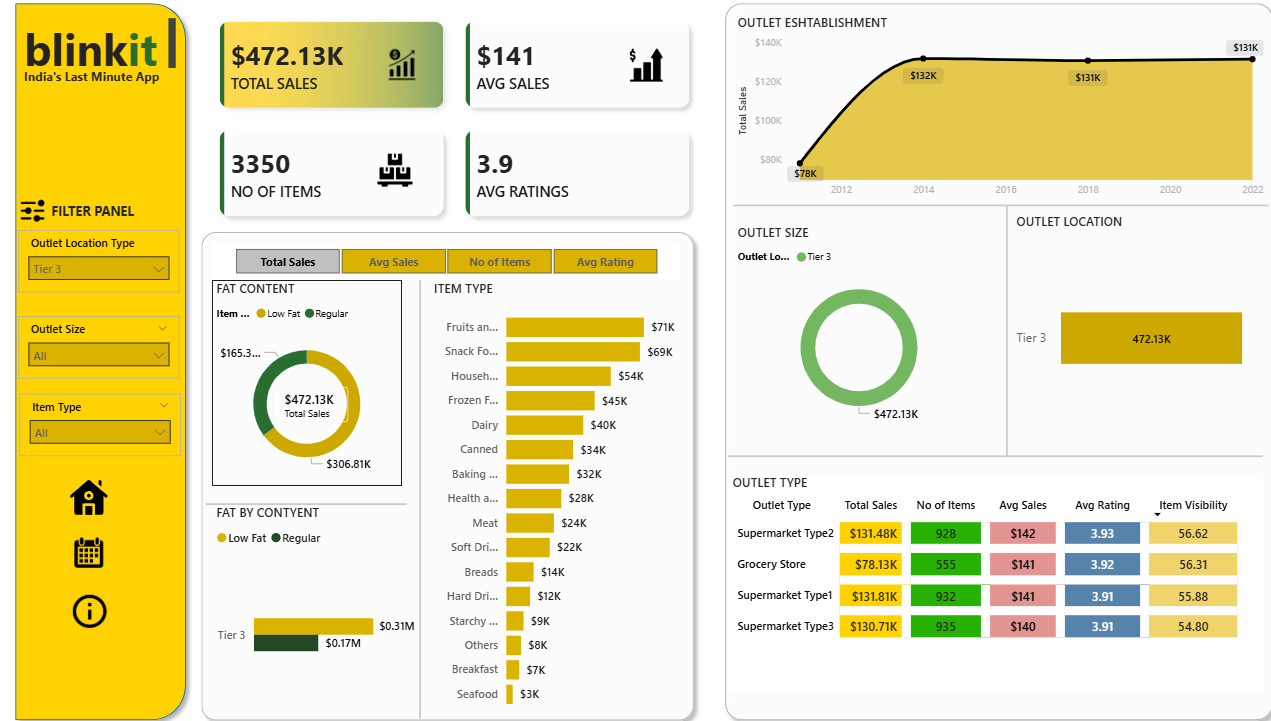

Layout of this report page (visuals, bound fields, positions):
{"tool":"powerbi","page":{"name":"Page 1","canvas":[1400,800],"ordinal":0},"visuals":[{"type":"shape","box":[10.5,0,204.1,800],"z":0},{"type":"textbox","box":[24,21,175.6,69],"z":1000},{"type":"textbox","box":[24,75,166.6,31.5],"z":2000},{"type":"cardVisual","fields":{"Data":["BlinkIT Grocery Data.Total Sales","BlinkIT Grocery Data.Avg Sales","BlinkIT Grocery Data.No of Items","BlinkIT Grocery Data.Avg Rating"]},"box":[214.6,0,570.3,270.2],"z":3000},{"type":"shape","box":[214,249.5,554.9,550.8],"z":4000},{"type":"donutChart","title":"FAT CONTENT","fields":{"Y":["BlinkIT Grocery Data.Total Sales"],"Category":["BlinkIT Grocery Data.Item Fat Content"]},"box":[234.5,310.8,207.2,225],"z":5000},{"type":"slicer","fields":{"Values":["Matrics.Matrics"]},"box":[234.5,269.9,509.9,40.9],"z":6000},{"type":"cardVisual","fields":{"Data":["BlinkIT Grocery Data.Total Sales"]},"box":[283.6,410.4,117.2,73.6],"z":7000},{"type":"clusteredBarChart","title":"FAT BY CONTYENT","fields":{"Y":["BlinkIT Grocery Data.Total Sales"],"Category":["BlinkIT Grocery Data.Outlet Location Type"],"Series":["BlinkIT Grocery Data.Item Fat Content"]},"box":[234.5,554.9,226.3,234.5],"z":8000},{"type":"shape","box":[228.1,535.8,219.1,39],"z":9000},{"type":"shape","box":[451.3,310.8,20.5,478.5],"z":10000},{"type":"barChart","title":"ITEM TYPE","fields":{"Y":["BlinkIT Grocery Data.Total Sales"],"Category":["BlinkIT Grocery Data.Item Type"]},"box":[471.7,310.8,283.6,478.5],"z":11000},{"type":"shape","box":[785,0,615.4,800],"z":12000},{"type":"lineChart","title":"OUTLET ESHTABLISHMENT","fields":{"Y":["BlinkIT Grocery Data.Total Sales"],"Category":["BlinkIT Grocery Data.Outlet Establishment Year"]},"box":[803,20.5,583.5,208.6],"z":13000},{"type":"shape","box":[803,210.1,583.8,39],"z":14000},{"type":"donutChart","title":"OUTLET SIZE","fields":{"Y":["BlinkIT Grocery Data.Total Sales"],"Category":["BlinkIT Grocery Data.Outlet Location Type"]},"box":[803,249.1,274.7,225.1],"z":15000},{"type":"shape","box":[1096.1,229,10.9,274],"z":16000},{"type":"funnel","title":"OUTLET LOCATION","fields":{"Y":["Sum(BlinkIT Grocery Data.Sales)"],"Category":["BlinkIT Grocery Data.Outlet Location Type"]},"box":[1107.6,237.1,261.2,255.1],"z":17000},{"type":"shape","box":[797.6,484,583.5,38.2],"z":18000},{"type":"pivotTable","title":"OUTLET TYPE","fields":{"Rows":["BlinkIT Grocery Data.Outlet Type"],"Values":["BlinkIT Grocery Data.Total Sales","BlinkIT Grocery Data.No of Items","BlinkIT Grocery Data.Avg Sales","BlinkIT Grocery Data.Avg Rating","Sum(BlinkIT Grocery Data.Item Visibility)"]},"box":[797.6,522.2,583.5,235.9],"z":19000},{"type":"slicer","fields":{"Values":["BlinkIT Grocery Data.Outlet Location Type"]},"box":[23.2,256.3,175.9,68.2],"z":20000},{"type":"slicer","fields":{"Values":["BlinkIT Grocery Data.Outlet Size"]},"box":[23.2,350.4,175.9,68.2],"z":21000},{"type":"slicer","fields":{"Values":["BlinkIT Grocery Data.Item Type"]},"box":[24.5,434.9,175.9,68.2],"z":22000},{"type":"textbox","box":[54.5,220.9,114.5,35.4],"z":23000},{"type":"image","box":[23.2,220.9,31.4,28.6],"z":24000},{"type":"image","box":[47.7,522.2,105,53.2],"z":25000},{"type":"image","box":[54.5,575.3,91.3,65.4],"z":26000},{"type":"image","box":[79.1,639.4,43.6,65.4],"z":27000},{"type":"image","box":[418.5,58.6,46.4,34.1],"z":28000},{"type":"image","box":[407.6,171.8,53.2,38.2],"z":29000},{"type":"image","box":[672.1,57.3,72.3,38.2],"z":30000}]}

Visuals, with their boxes in screenshot pixels (x1, y1, x2, y2), scaled from the page's 1400x800 canvas onto the 1271x721 screenshot:
shape: (10, 0, 195, 720)
textbox: (22, 19, 181, 81)
textbox: (22, 68, 173, 96)
cardVisual - BlinkIT Grocery Data.Total Sales x BlinkIT Grocery Data.Avg Sales: (195, 0, 713, 244)
shape: (194, 225, 698, 720)
"FAT CONTENT" donutChart: (213, 280, 401, 483)
slicer - Matrics.Matrics: (213, 243, 676, 280)
cardVisual - BlinkIT Grocery Data.Total Sales: (257, 370, 364, 436)
"FAT BY CONTYENT" clusteredBarChart: (213, 500, 418, 711)
shape: (207, 483, 406, 518)
shape: (410, 280, 428, 711)
"ITEM TYPE" barChart: (428, 280, 686, 711)
shape: (713, 0, 1270, 720)
"OUTLET ESHTABLISHMENT" lineChart: (729, 18, 1259, 206)
shape: (729, 189, 1259, 225)
"OUTLET SIZE" donutChart: (729, 225, 978, 427)
shape: (995, 206, 1005, 453)
"OUTLET LOCATION" funnel: (1006, 214, 1243, 444)
shape: (724, 436, 1254, 471)
"OUTLET TYPE" pivotTable: (724, 471, 1254, 683)
slicer - BlinkIT Grocery Data.Outlet Location Type: (21, 231, 181, 292)
slicer - BlinkIT Grocery Data.Outlet Size: (21, 316, 181, 377)
slicer - BlinkIT Grocery Data.Item Type: (22, 392, 182, 453)
textbox: (49, 199, 153, 231)
image: (21, 199, 50, 225)
image: (43, 471, 139, 519)
image: (49, 518, 132, 577)
image: (72, 576, 111, 635)
image: (380, 53, 422, 84)
image: (370, 155, 418, 189)
image: (610, 52, 676, 86)
